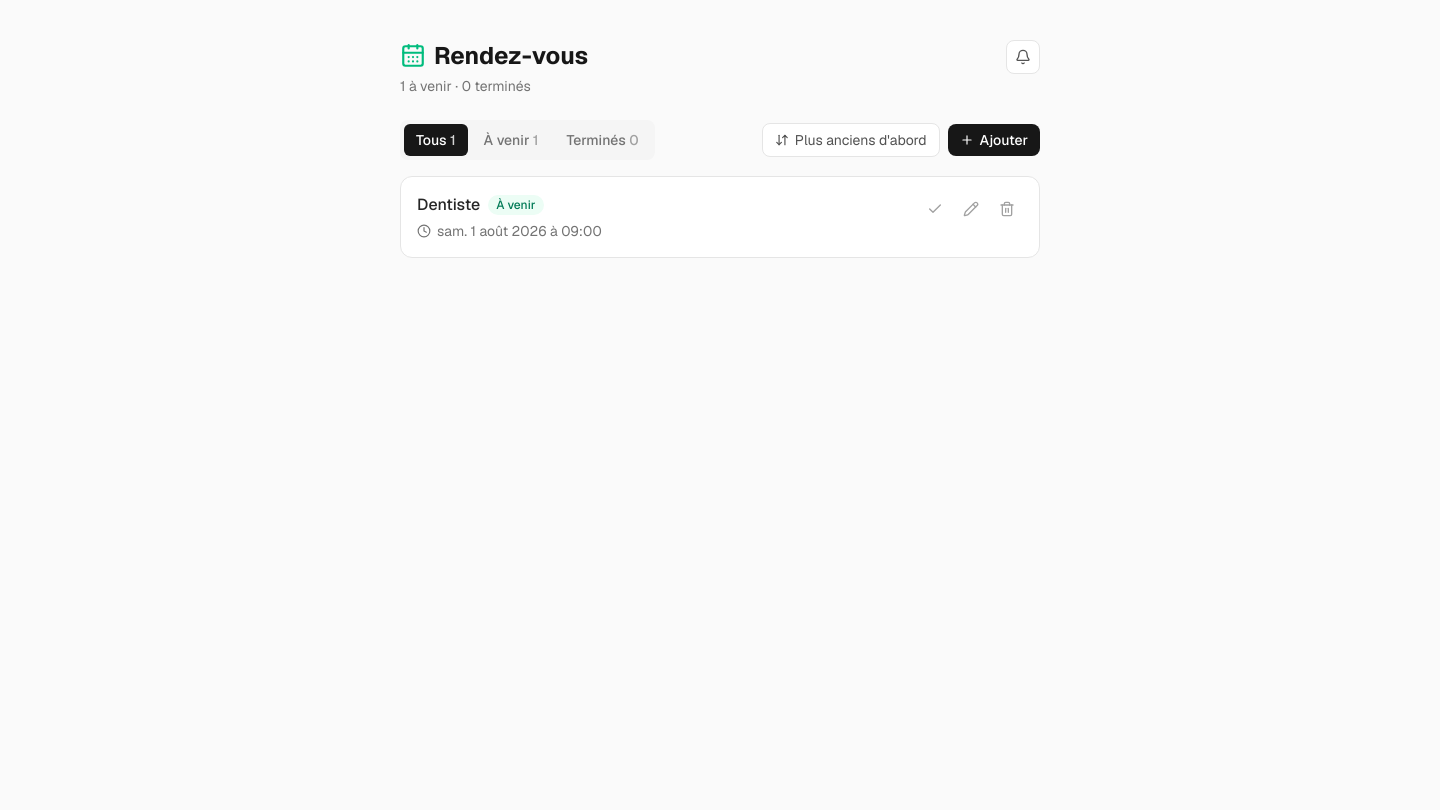
Test: the appointment form dialog › saves an edit and closes the dialog
Click the button named "Modifier": click(971, 209) [955, 193, 987, 225]
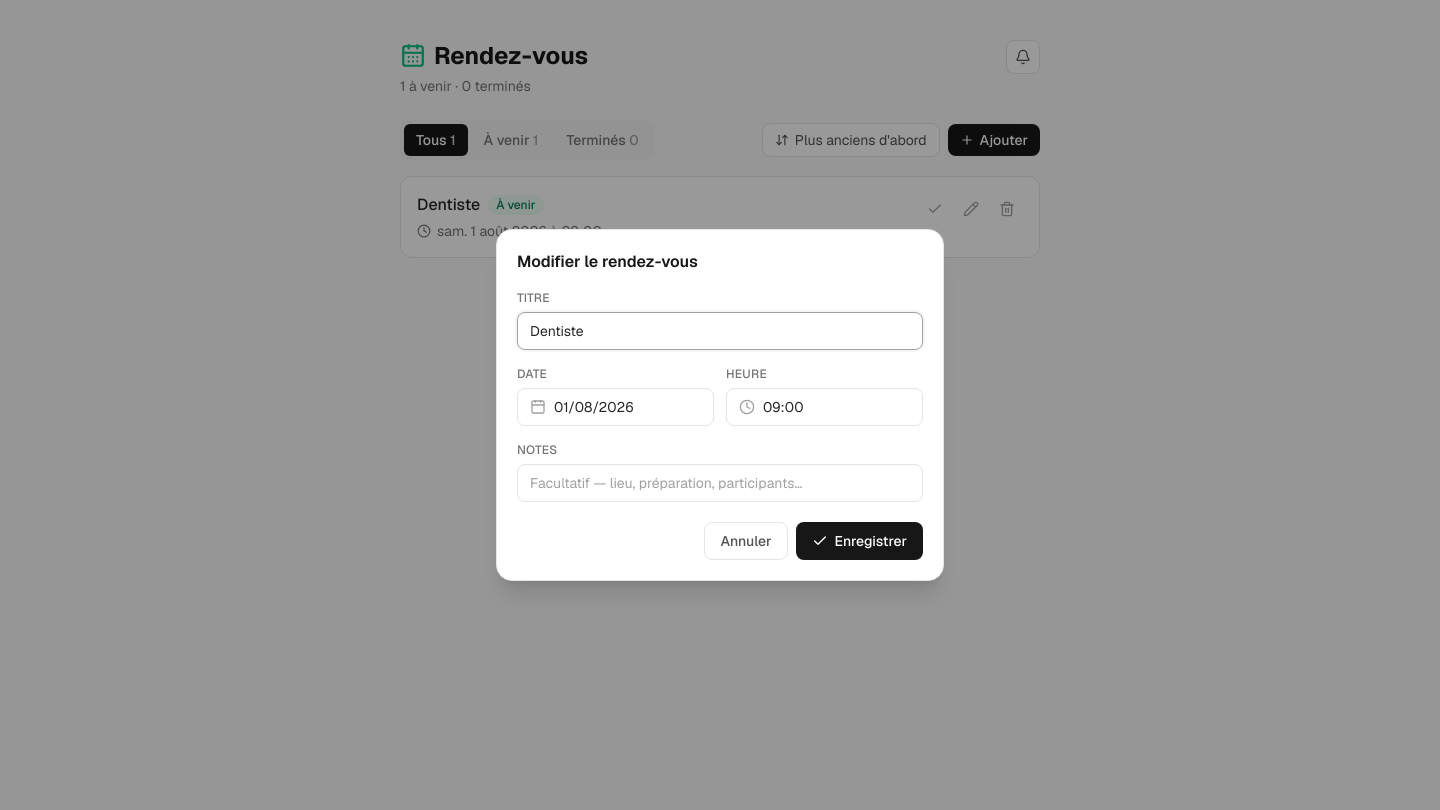
Replace the text in the field labelled "Titre" with "Dentiste (reporté)": (720, 331) [517, 312, 923, 350]
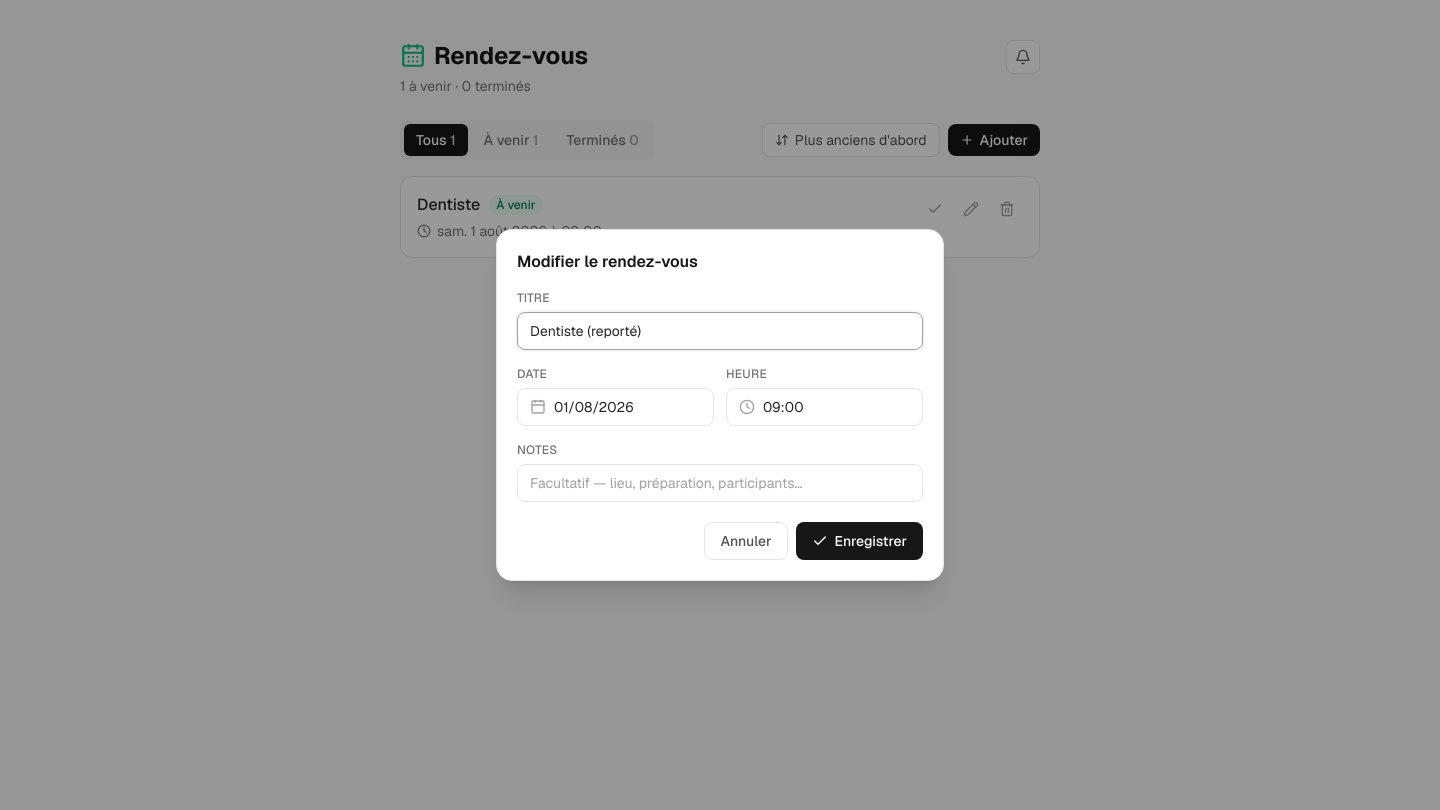
Click the button "Enregistrer": click(860, 541) [796, 522, 923, 560]
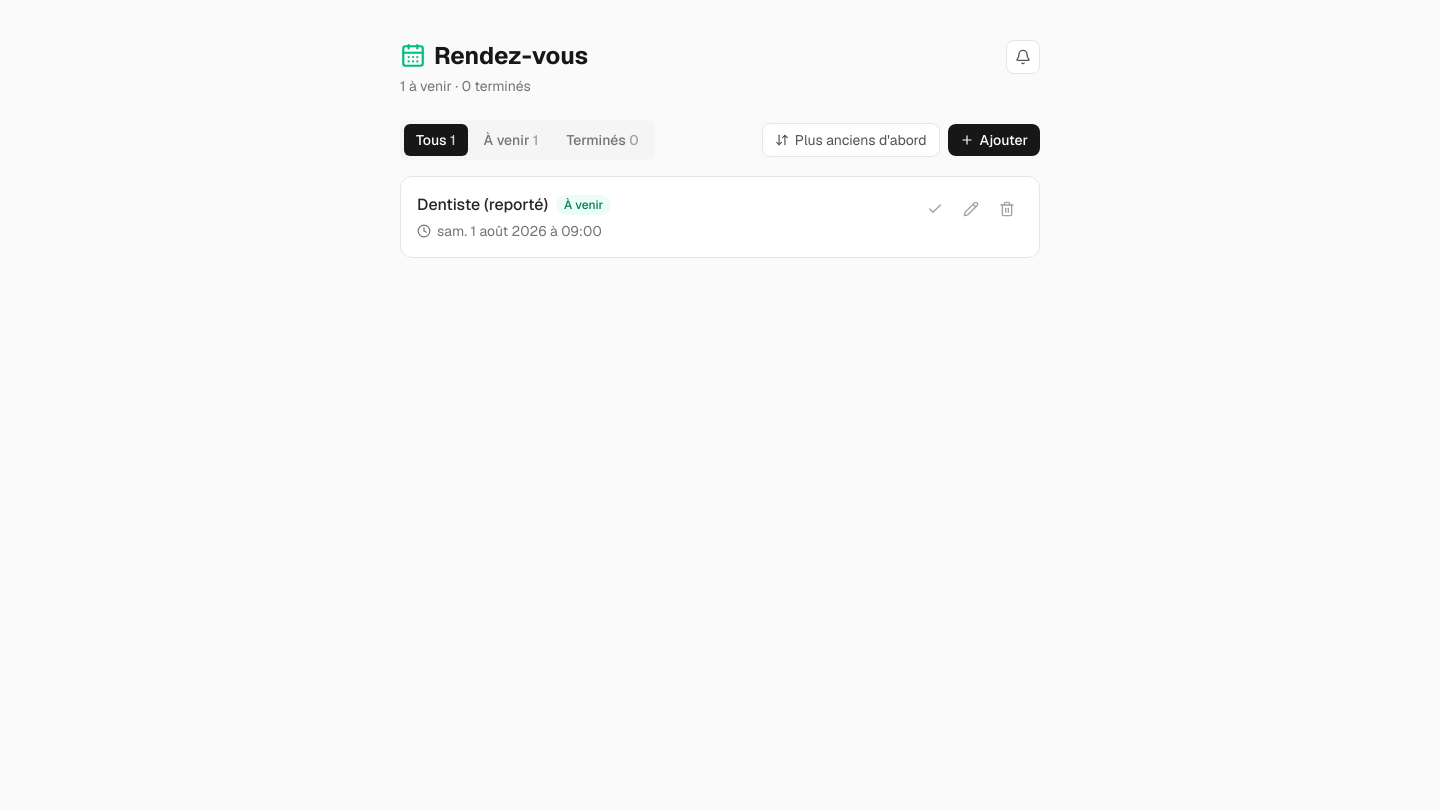
Check: the dialog is gone
